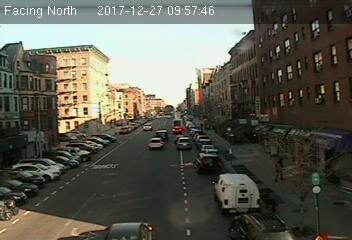car: (229, 208, 299, 240), (193, 152, 221, 171), (174, 136, 192, 149), (148, 137, 164, 150), (142, 123, 152, 130)
pedestrian: (274, 155, 284, 184)
truck: (210, 172, 260, 213)
